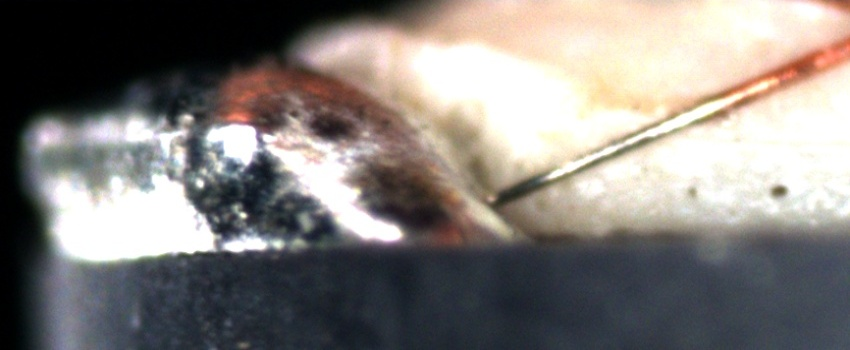TS: (492, 94, 736, 208)
